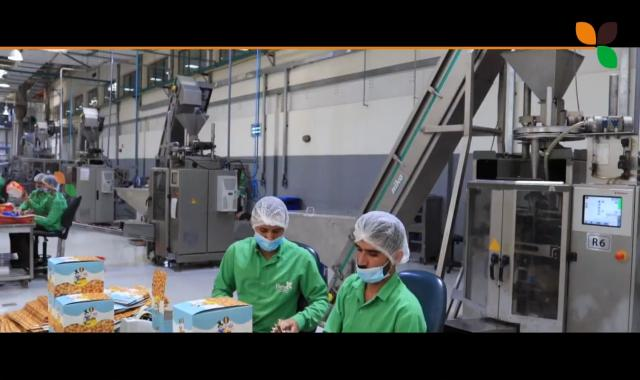hairnet: (351, 208, 412, 272), (249, 195, 291, 252), (36, 174, 51, 188)
